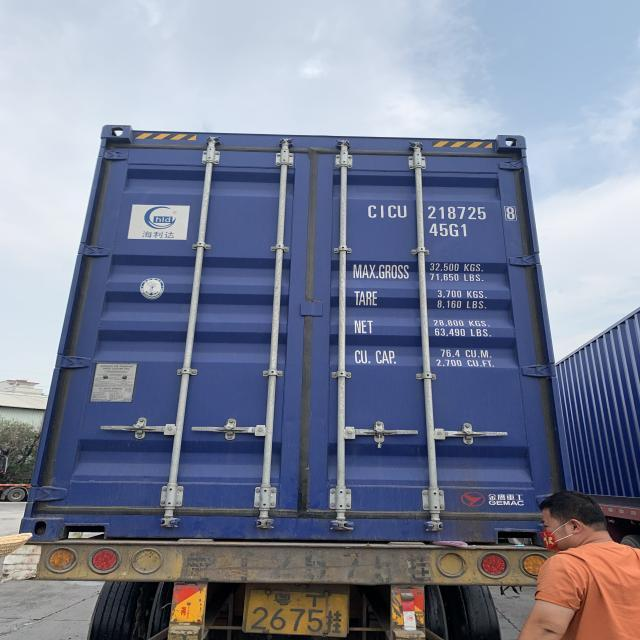ISO: (433, 223, 467, 239)
container_number: (369, 202, 518, 222)
